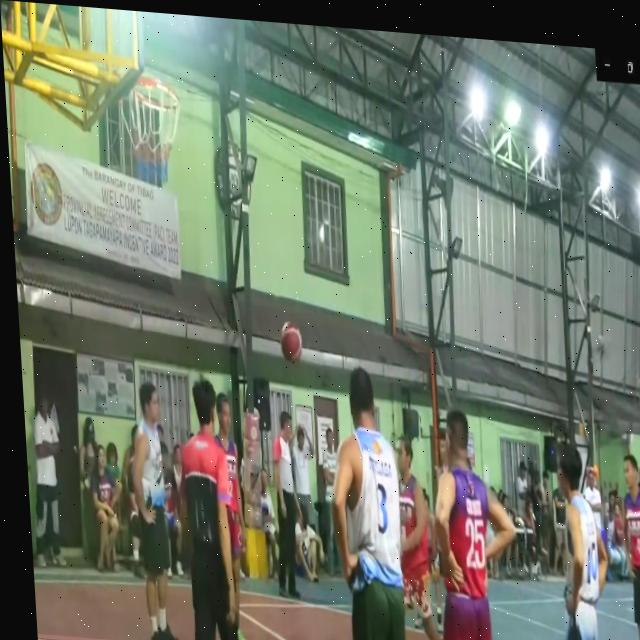basketball: (278, 317, 306, 368)
hoop: (122, 70, 188, 193)
